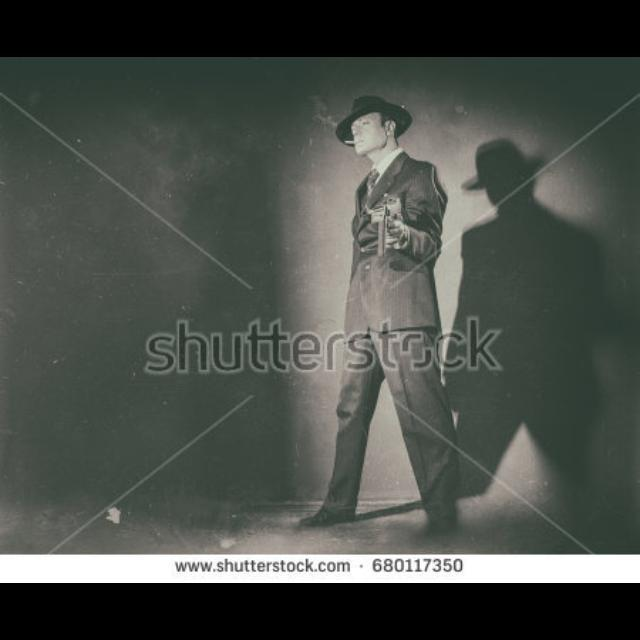rokok: (344, 136, 356, 146)
